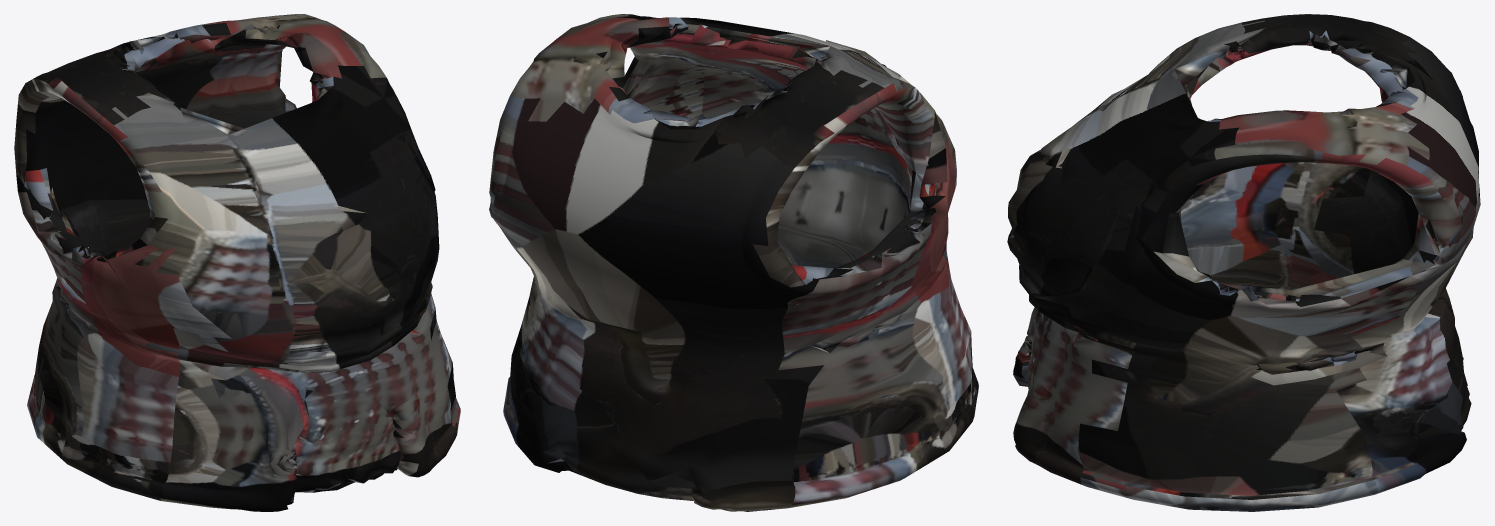
The model's file is guofengjia5.fbx.
The picture shows the model from 3 angles, left to right: view 1: azimuth 30°, elevation 25°; view 2: azimuth 150°, elevation 25°; view 3: azimuth 270°, elevation 25°; orthographic projection. The views are drawn at different scales.
Parts seen in each view (by area): view 1: Mesh0; view 2: Mesh0; view 3: Mesh0.
Part boxes in pixels (<box>): Mesh0: <box>14,14,460,511</box>; Mesh0: <box>489,14,978,511</box>; Mesh0: <box>1007,14,1480,511</box>.
Bounding box in the file's own units: 0.6893 × 0.6194 × 0.7443.
